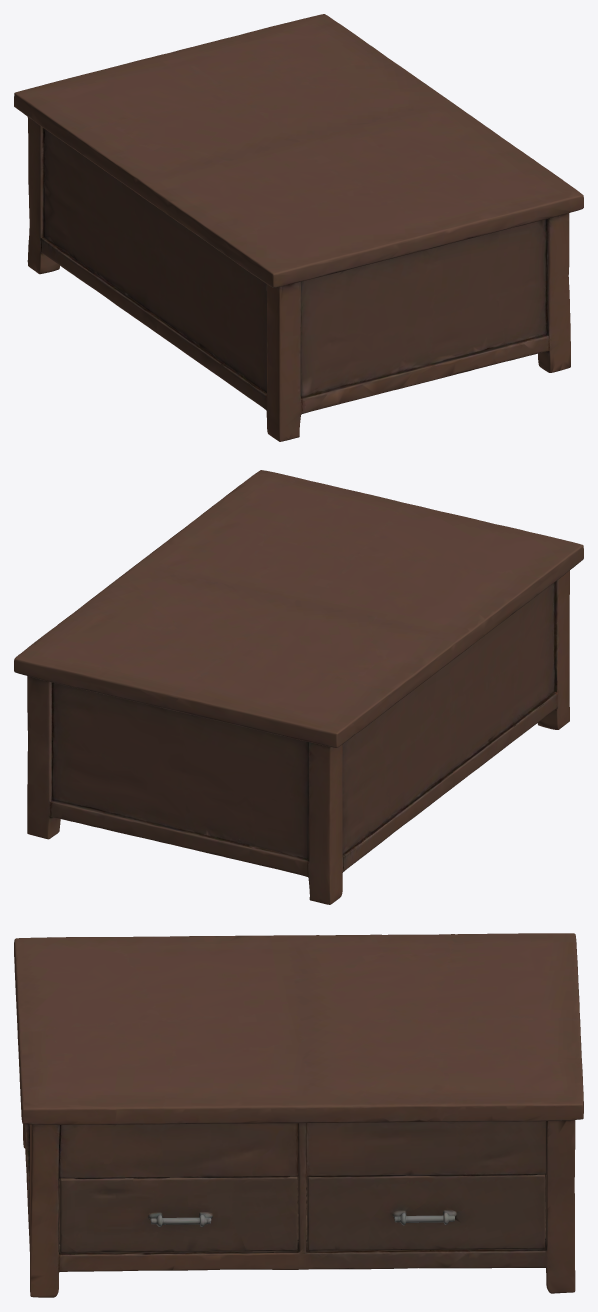
The model's file is homedepot-com-p-dex-48-in-walnut-rectangle-wood-coffee-table-b0ce28.glb.
3 renders of one model, top to bottom at view 1: azimuth 30°, elevation 25°; view 2: azimuth 150°, elevation 25°; view 3: azimuth 270°, elevation 25°, orthographic. The views are drawn at different scales.
Parts seen in each view (by area): view 1: tripo_node_6fcd3bc0-eee9-4830-b6d3-fef13c5e694d; view 2: tripo_node_6fcd3bc0-eee9-4830-b6d3-fef13c5e694d; view 3: tripo_node_6fcd3bc0-eee9-4830-b6d3-fef13c5e694d.
Part boxes in pixels (left/top/right/bottom): tripo_node_6fcd3bc0-eee9-4830-b6d3-fef13c5e694d: left=14, top=14, right=583, bottom=441; tripo_node_6fcd3bc0-eee9-4830-b6d3-fef13c5e694d: left=14, top=470, right=583, bottom=904; tripo_node_6fcd3bc0-eee9-4830-b6d3-fef13c5e694d: left=14, top=933, right=583, bottom=1297.
Bounding box in the file's own units: 0.7405 × 0.3854 × 1.01.
Materials: 1 (1 with a texture image).
